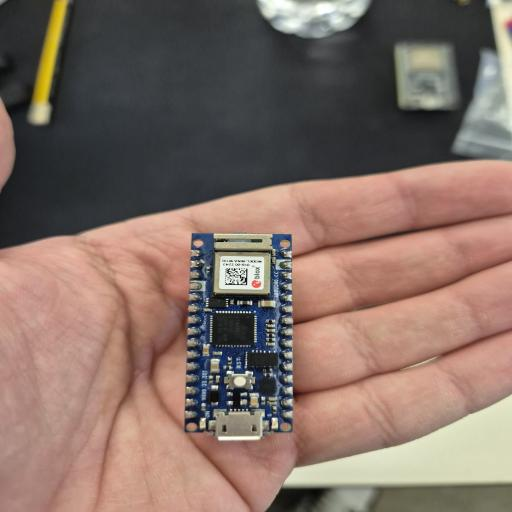arduino-nano-iot-33: (190, 230, 294, 434)
